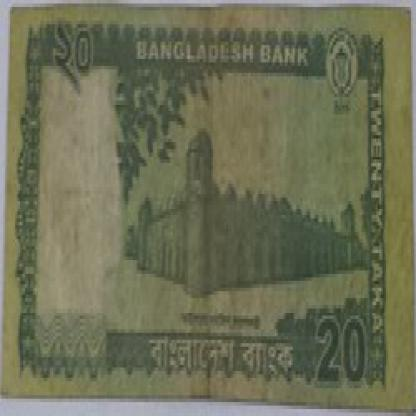Twenty: (308, 281, 369, 392), (46, 17, 116, 100)
